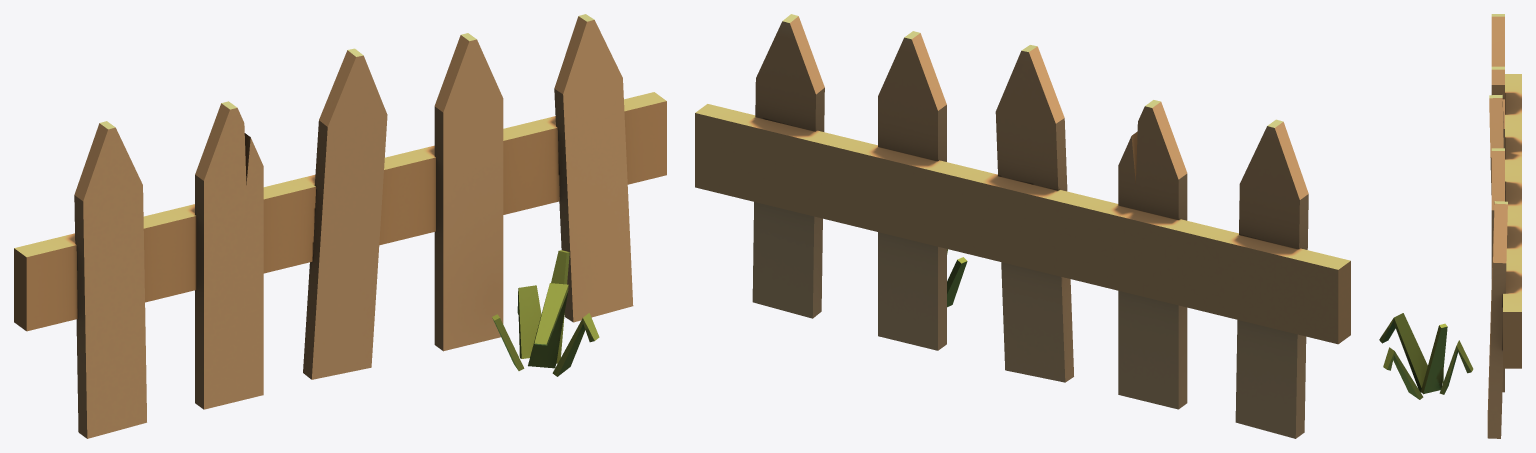
File: PUSHILIN_picket_fence.gltf
3 views of the same model, side by side, from view 1: azimuth 30°, elevation 25°; view 2: azimuth 150°, elevation 25°; view 3: azimuth 270°, elevation 25° (orthographic). The views are drawn at different scales.
Visible parts, largest first — view 1: node-0; view 2: node-0; view 3: node-0.
Part boxes in pixels (x1=…): node-0: x1=14, y1=14, x2=666, y2=438; node-0: x1=695, y1=14, x2=1350, y2=438; node-0: x1=1379, y1=14, x2=1521, y2=438.
Size of the model in its own units: 1.97 by 0.9402 by 0.5004.
Materials: 1 (1 with a texture image).
